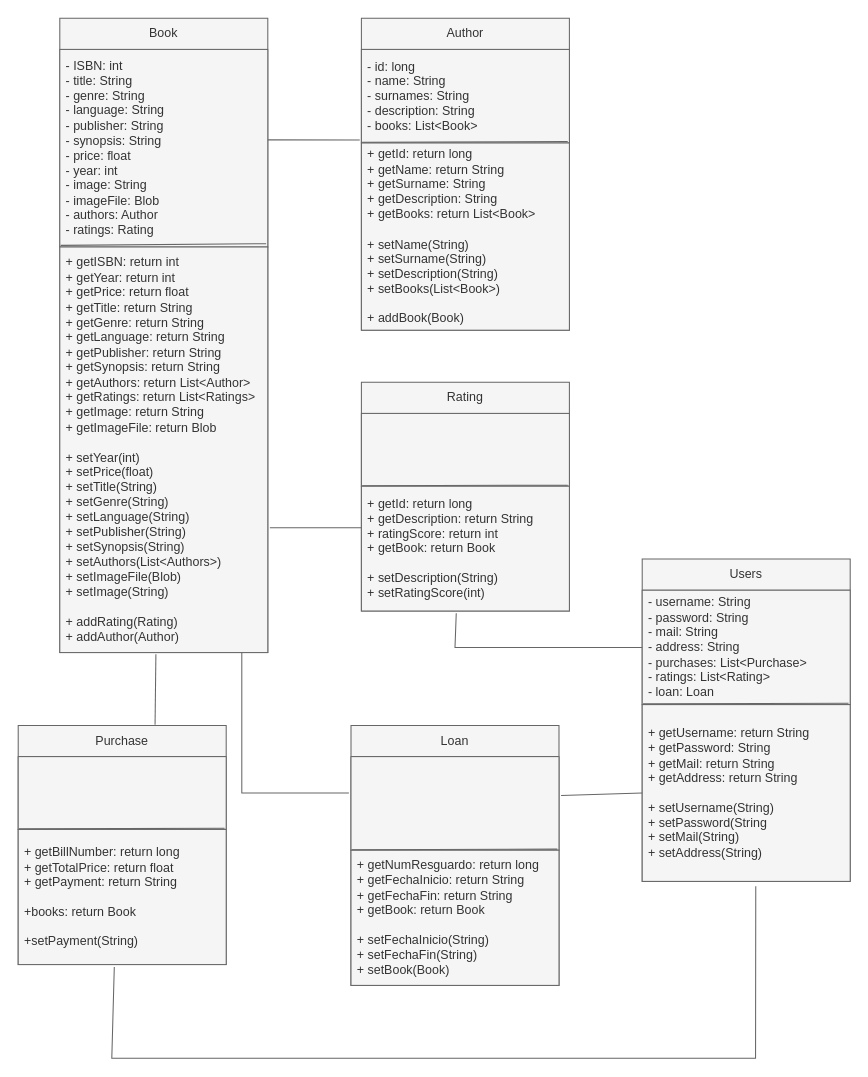
The diagram is 868 pixels wide and 1077 high, and some of its shapes have lost their labels. The centre of each missing label's shape, as x and y in pixels:
- billNumber: long - totalPrice: float - payment: String - books: Book: point 121,792
- id: long - description: String - ratingScore: int - book: Book: point 464,449
- numResguardo: long - fechaInicio: String - fechaFin: String - book: Book: point 454,803
